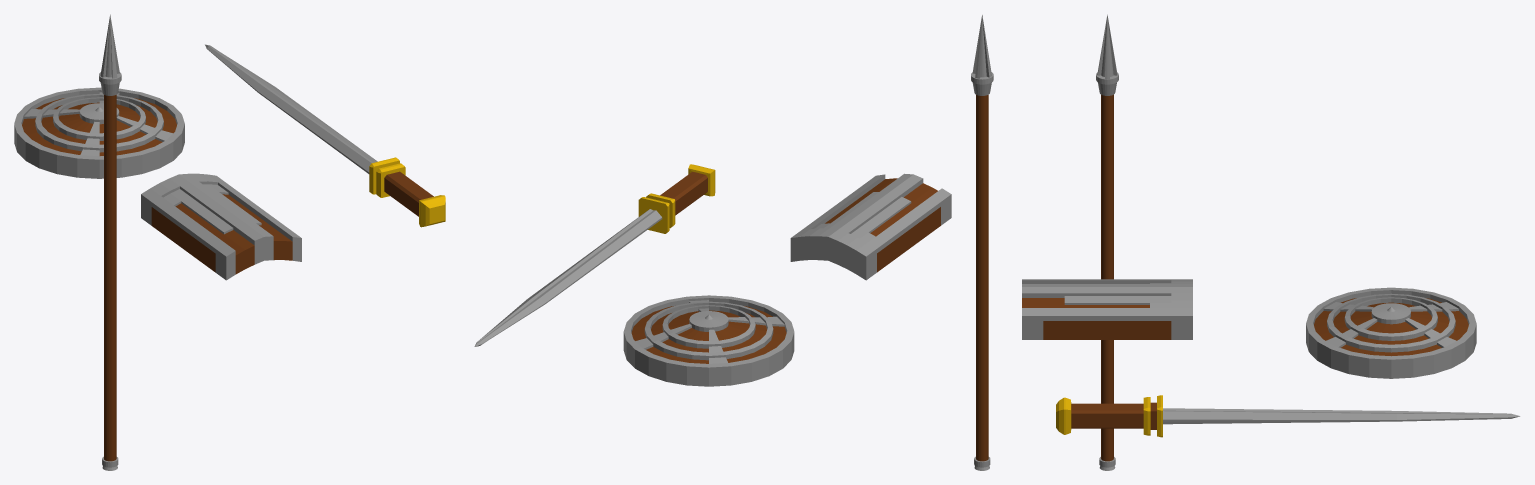
Rendered from Weapons.fbx.
3 renders of one model, left to right at view 1: azimuth 30°, elevation 25°; view 2: azimuth 150°, elevation 25°; view 3: azimuth 270°, elevation 25°, orthographic.
Parts seen in each view (by area): view 1: Shield, Shield2, Spear, Sword2; view 2: Shield, Shield2, Spear, Sword2; view 3: Shield, Shield2, Sword2, Spear.
Part boxes in pixels (x1,y1,x2,y2): Shield: [14, 87, 184, 178]; Shield2: [141, 173, 301, 280]; Spear: [99, 14, 121, 470]; Sword2: [205, 44, 445, 227]; Shield: [623, 295, 794, 386]; Shield2: [790, 173, 951, 280]; Spear: [971, 15, 993, 470]; Sword2: [474, 164, 715, 346]; Shield: [1306, 287, 1476, 378]; Shield2: [1022, 279, 1192, 339]; Sword2: [1056, 395, 1520, 437]; Spear: [1096, 14, 1118, 470].
Size of the model in its own units: 440 by 586 by 584.
